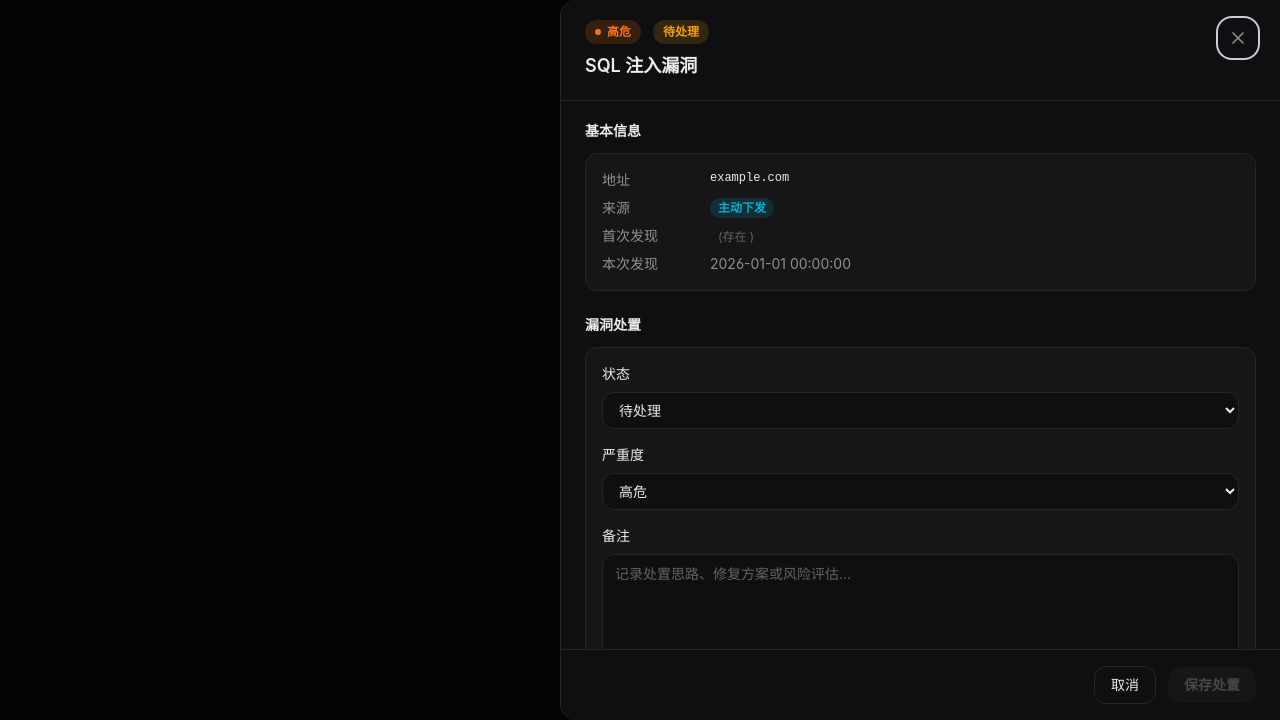
Test case: FindingDrawer › 切换状态下拉后 dirty 变为 true
Expected: the button "保存处置" is disabled, [1168,667,1256,703]
Select "已确认" in the dropdown showing "待处理" below "状态" at coordinates (920, 410), box [602,392,1239,429]
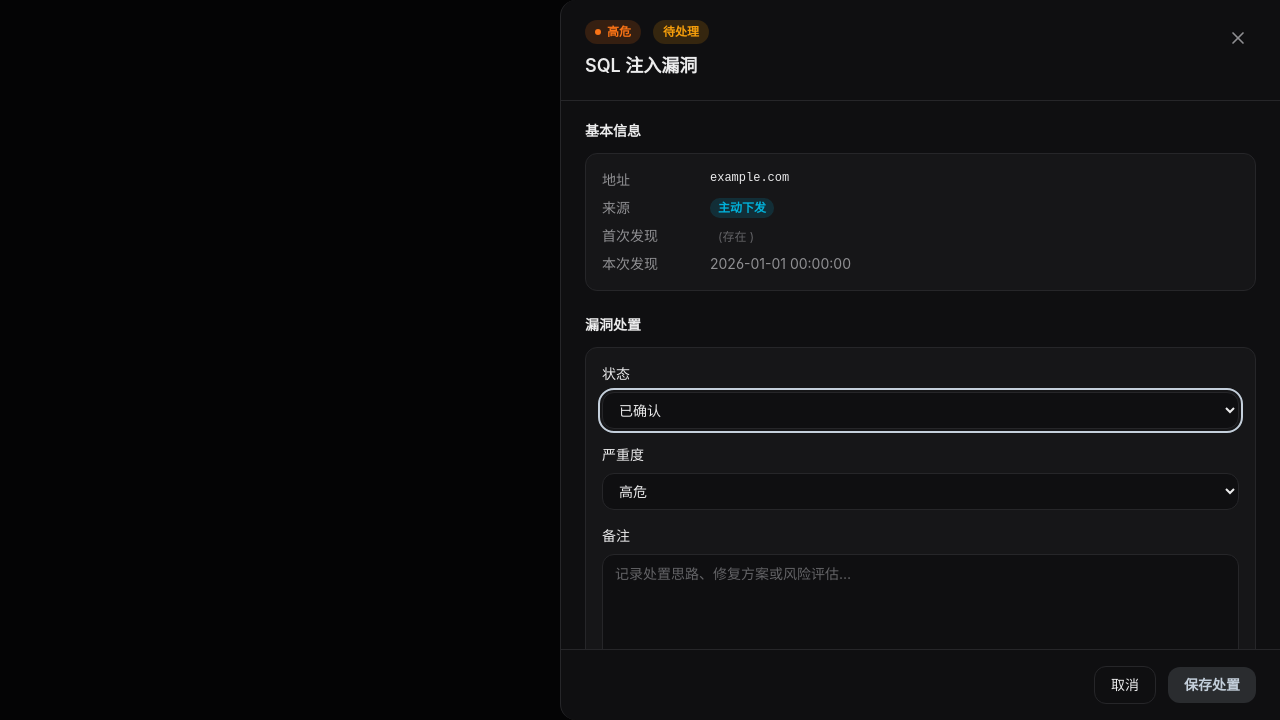
Result: the button "保存处置" is enabled at [1168,667,1256,703]
